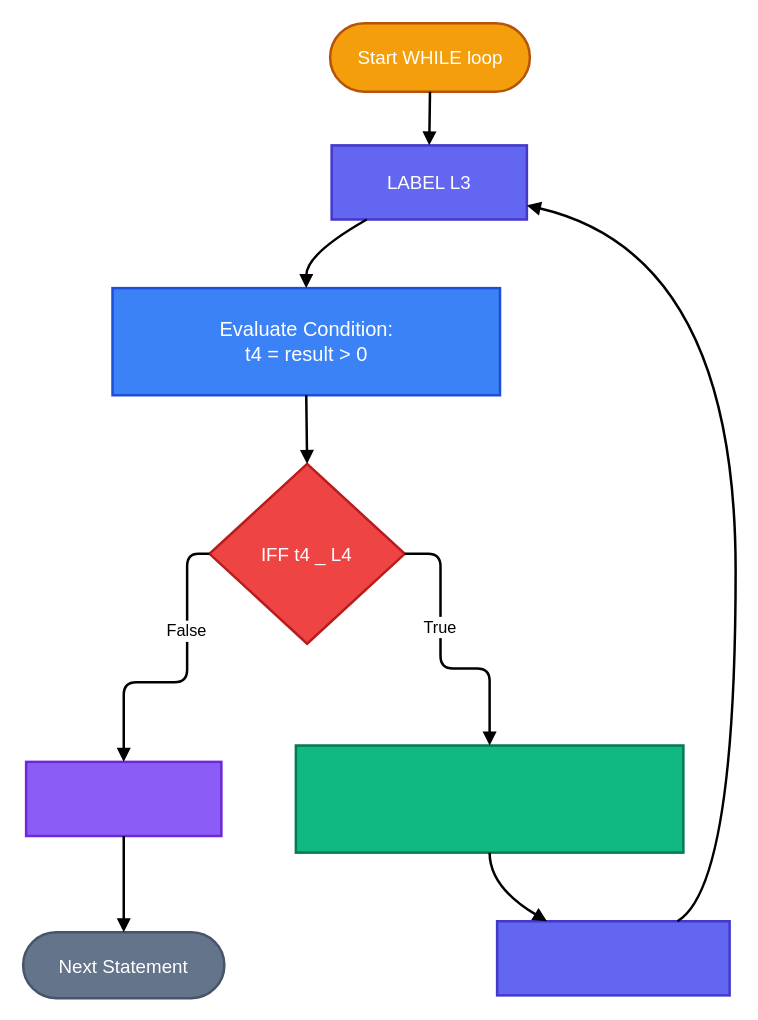
Some shapes in this 758 by 1020 pixel diagram are drawn without their labels. The shapes that lost their labels are listed below. From the top down, each one's centre as x and y in pixels, then its label:
At (x=123, y=798): "LABEL L4".
At (x=489, y=798): "Loop Body: result = result - 1".
At (x=612, y=957): "GOTO _ _ L3".
